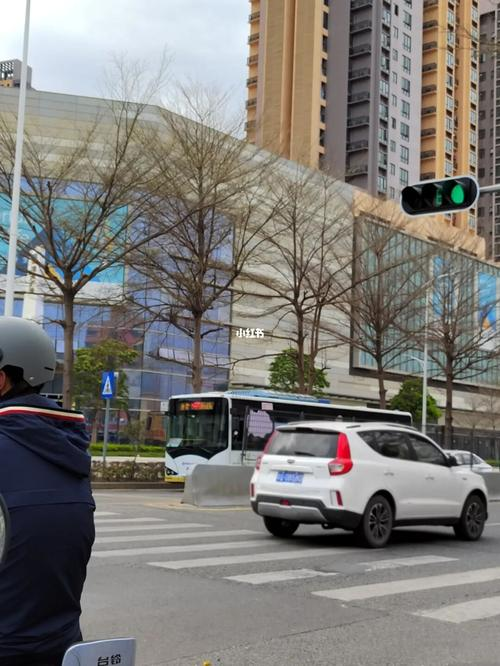bus: (164, 391, 279, 483)
car: (241, 418, 493, 548), (442, 449, 497, 482)
person: (1, 312, 99, 666)
sign: (101, 370, 116, 398)
traffic light: (401, 175, 482, 226)
